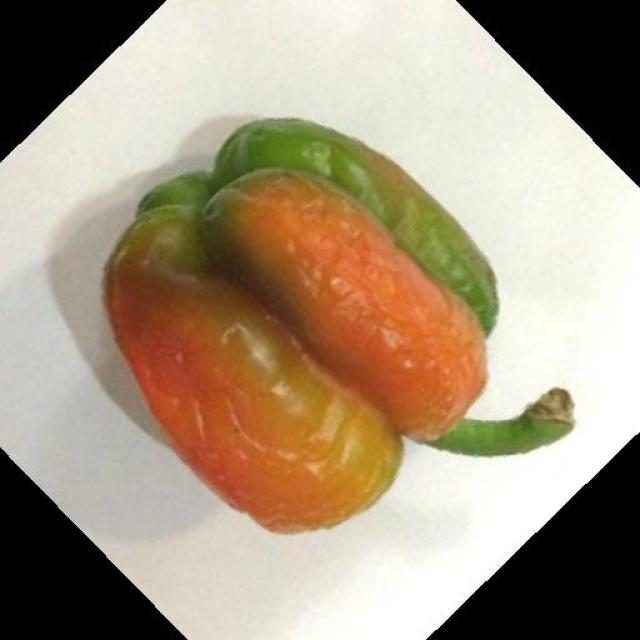Stale_Capsicum: (106, 130, 542, 513)
